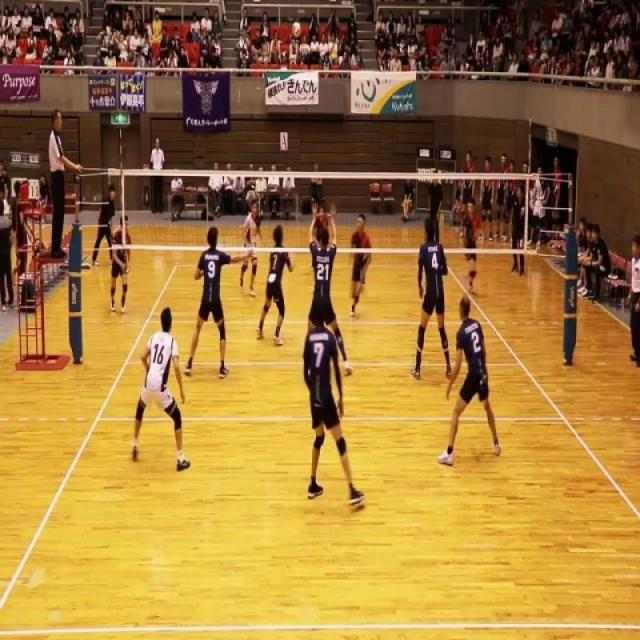volleyball: (291, 20, 302, 39)
